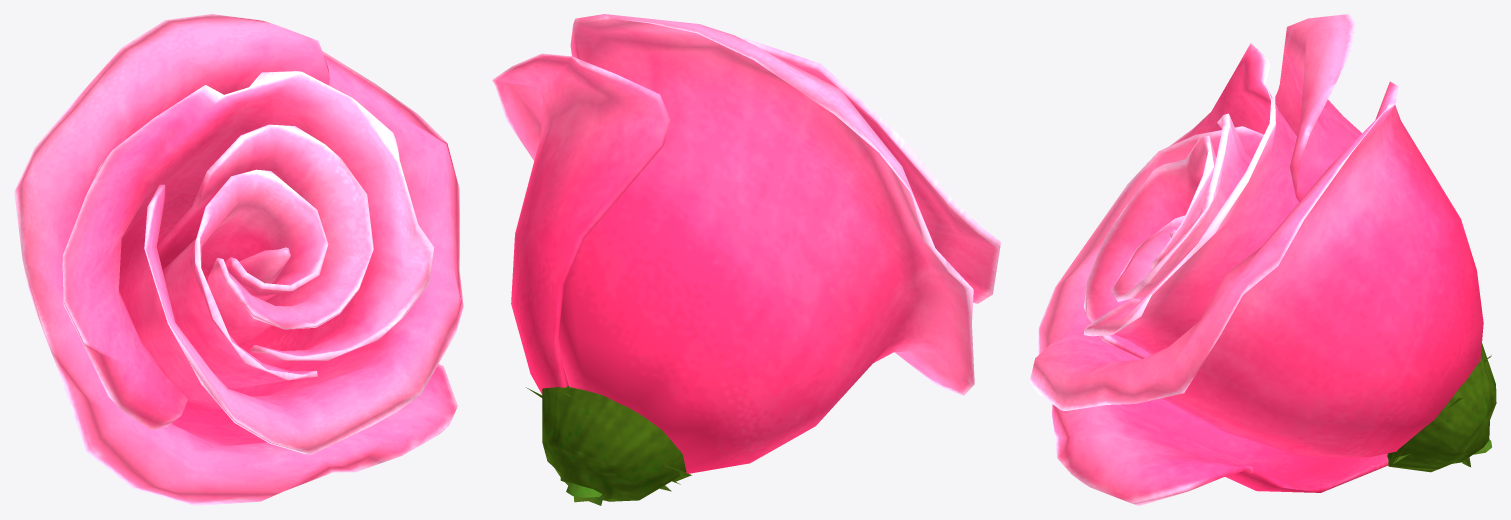
The model's file is mdl_paprika_rose.gltf.
The picture shows the model from 3 angles, left to right: view 1: azimuth 30°, elevation 25°; view 2: azimuth 150°, elevation 25°; view 3: azimuth 270°, elevation 25°; orthographic projection. The views are drawn at different scales.
Parts seen in each view (by area): view 1: Object_2; view 2: Object_2; view 3: Object_2.
Boxes of the visible parts, box(x1,y1,x2,y2) form: Object_2: box(14, 14, 463, 505); Object_2: box(492, 14, 1000, 505); Object_2: box(1029, 14, 1496, 505).
Bounding box in the file's own units: 1.67 × 1.54 × 1.52.
Materials: 1 (1 with a texture image).
